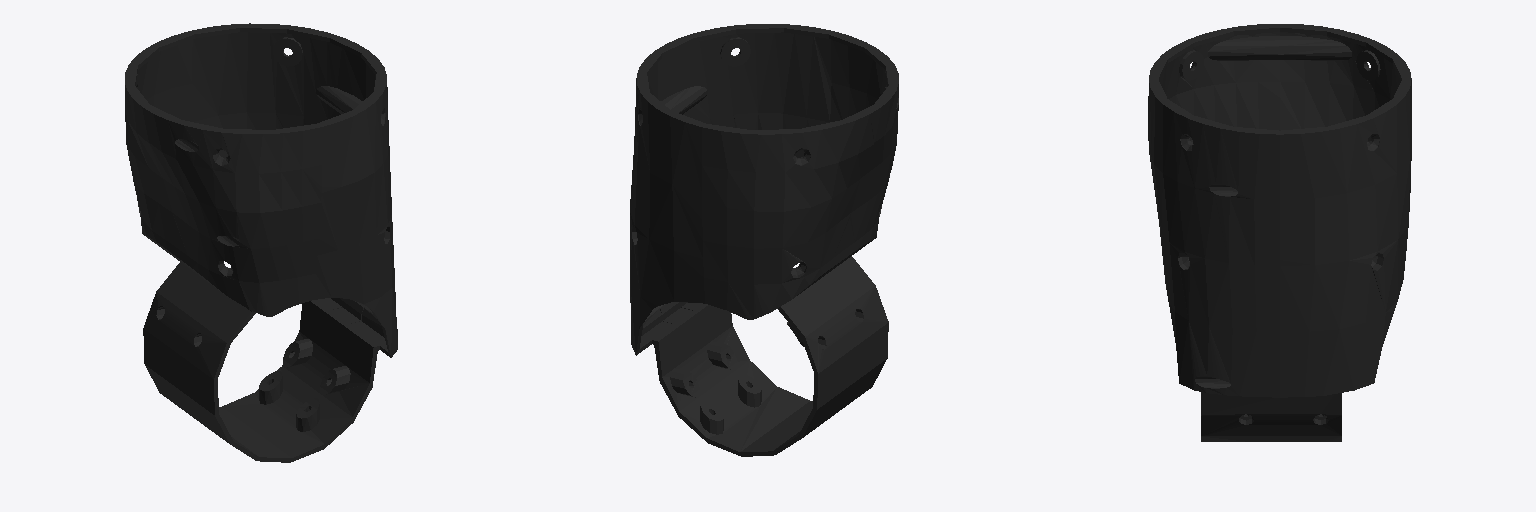
The model's file is asm0001_vrml_04_prt.obj.
The picture shows the model from 3 angles: view 1: azimuth 30°, elevation 25°; view 2: azimuth 150°, elevation 25°; view 3: azimuth 270°, elevation 25°; orthographic projection.
Parts seen in each view (by area): view 1: ShapeIndexedFaceSet.002_ShapeIndexedFaceSet, ShapeIndexedFaceSet_ShapeIndexedFaceSet.008, ShapeIndexedFaceSet.001_ShapeIndexedFaceSet.009; view 2: ShapeIndexedFaceSet.001_ShapeIndexedFaceSet.009, ShapeIndexedFaceSet_ShapeIndexedFaceSet.008, ShapeIndexedFaceSet.002_ShapeIndexedFaceSet; view 3: ShapeIndexedFaceSet.001_ShapeIndexedFaceSet.009, ShapeIndexedFaceSet.002_ShapeIndexedFaceSet, ShapeIndexedFaceSet_ShapeIndexedFaceSet.008.
Boxes of the visible parts, <box> form: ShapeIndexedFaceSet.002_ShapeIndexedFaceSet: <box>142,51,397,357</box>; ShapeIndexedFaceSet_ShapeIndexedFaceSet.008: <box>143,262,379,462</box>; ShapeIndexedFaceSet.001_ShapeIndexedFaceSet.009: <box>125,23,368,309</box>; ShapeIndexedFaceSet.001_ShapeIndexedFaceSet.009: <box>630,52,881,355</box>; ShapeIndexedFaceSet_ShapeIndexedFaceSet.008: <box>652,256,888,456</box>; ShapeIndexedFaceSet.002_ShapeIndexedFaceSet: <box>654,24,898,310</box>; ShapeIndexedFaceSet.001_ShapeIndexedFaceSet.009: <box>1280,24,1411,397</box>; ShapeIndexedFaceSet.002_ShapeIndexedFaceSet: <box>1148,24,1279,397</box>; ShapeIndexedFaceSet_ShapeIndexedFaceSet.008: <box>1201,392,1341,441</box>.
Bounding box in the file's own units: 2.79 × 4.15 × 2.8.